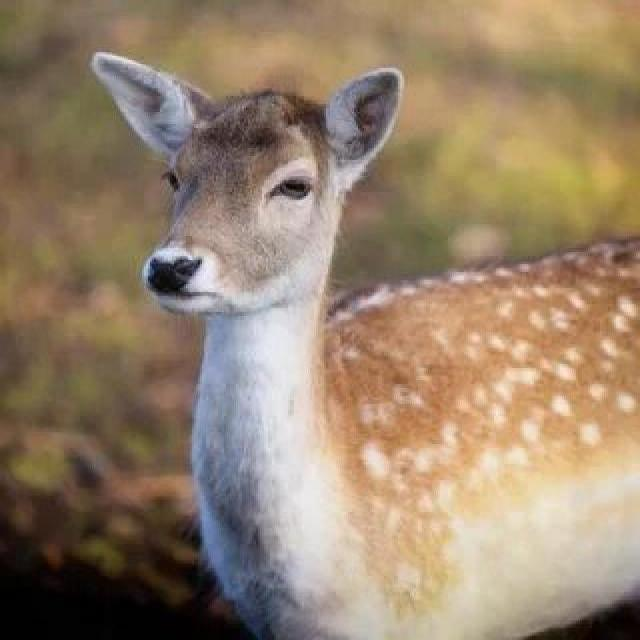deer: (121, 38, 640, 630)
